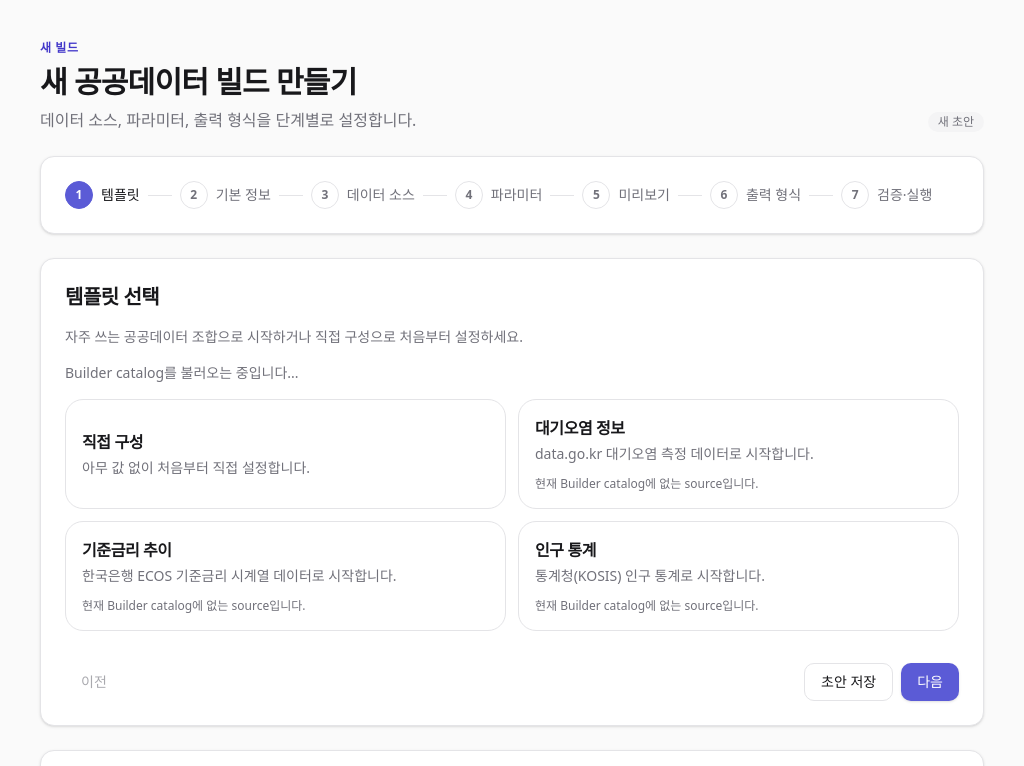
Test: New Build Wizard › blocks advancing while required fields are empty
Click the button "다음".
click(930, 682)  # box top-left (901, 663), bottom-right (959, 701)
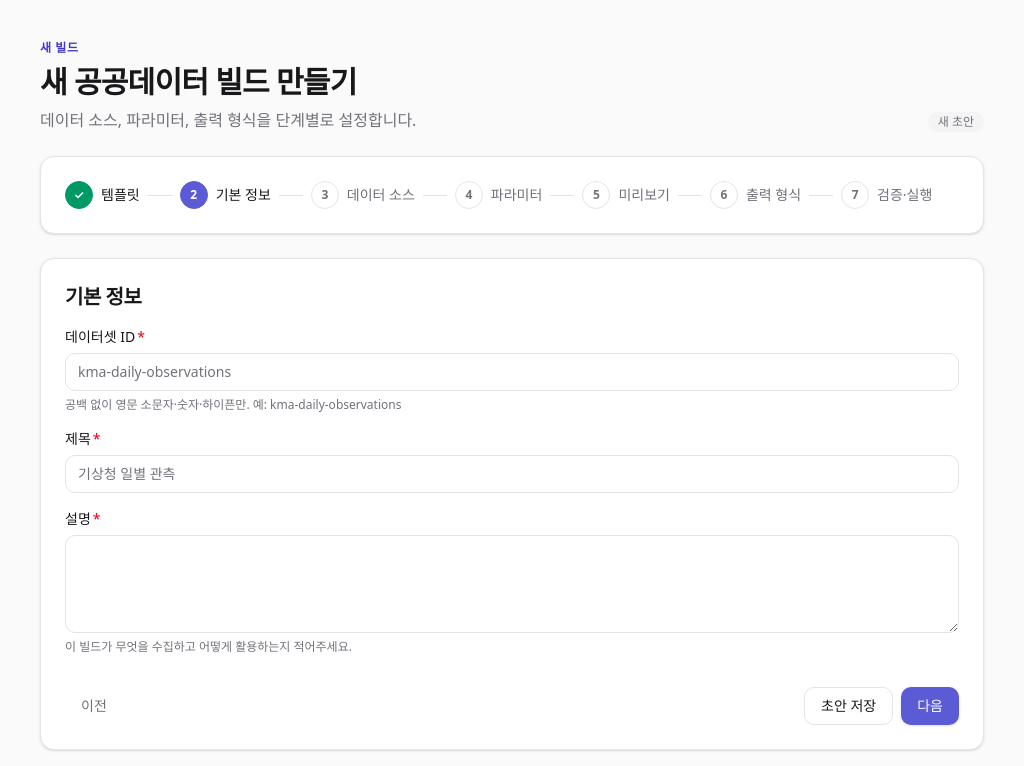
Click the button "다음".
click(930, 706)  # box top-left (901, 687), bottom-right (959, 725)
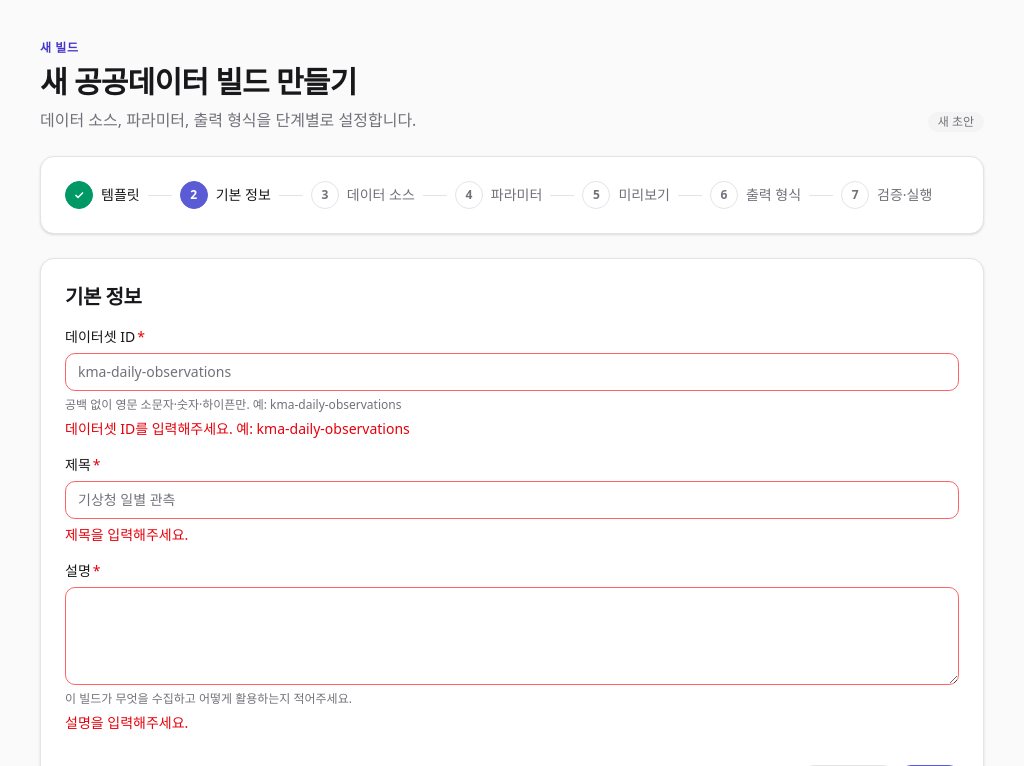
Expected: the heading "기본 정보" is shown, top-left (65, 283), bottom-right (141, 310)
Expected: the text "데이터셋 ID를 입력해주세요. 예: kma-daily-observations" is shown, top-left (65, 419), bottom-right (410, 438)
